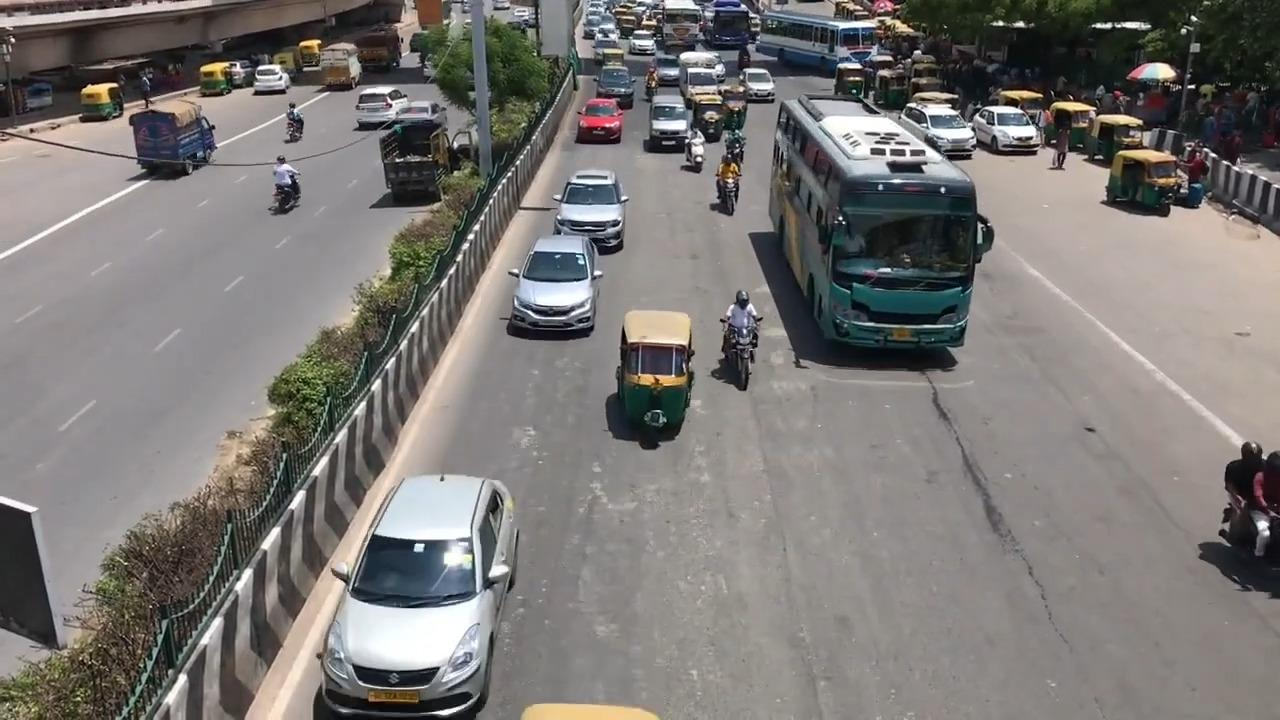Auto: (614, 308, 694, 431), (78, 81, 124, 121), (198, 62, 232, 96)
Bike: (1220, 434, 1280, 581), (718, 279, 763, 391), (270, 150, 301, 214), (716, 150, 741, 216), (723, 120, 749, 168), (683, 121, 705, 172), (284, 100, 305, 142)
Bus: (767, 92, 995, 352), (754, 8, 880, 75)
Car: (898, 101, 977, 159), (738, 67, 776, 102)
Truck: (378, 115, 475, 201), (128, 98, 217, 175)
